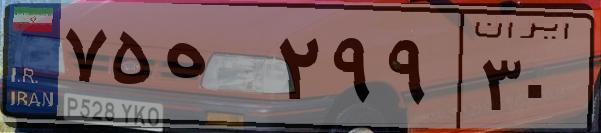0: (525, 38, 570, 115)
2: (270, 28, 330, 110)
3: (475, 38, 525, 113)
5: (110, 28, 158, 98)
7: (57, 26, 110, 100)
9: (385, 28, 445, 110), (330, 28, 385, 110)
ه: (158, 20, 270, 120)
